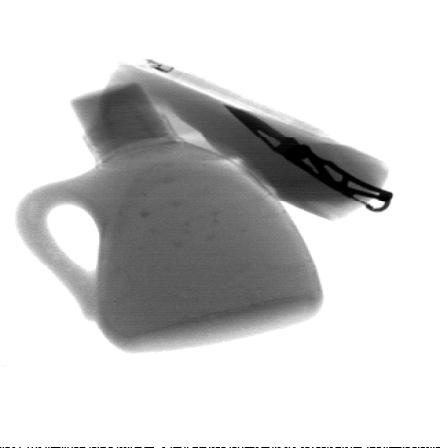Knife: (221, 104, 393, 214)
